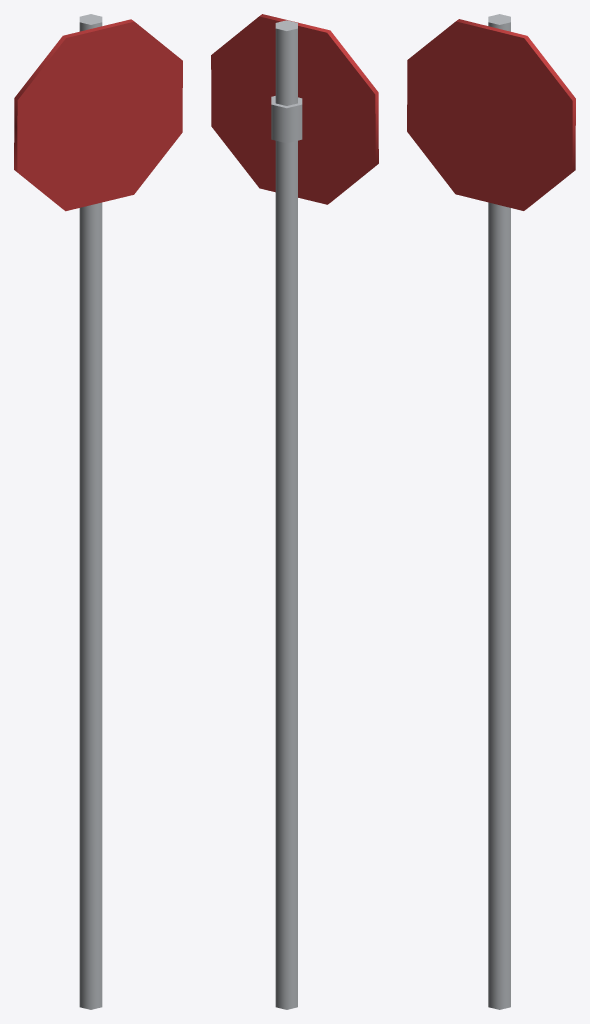
The model's file is SM_roadsign_011.fbx.
3 views of the same model, side by side, from view 1: azimuth 30°, elevation 25°; view 2: azimuth 150°, elevation 25°; view 3: azimuth 330°, elevation 25° (orthographic).
Parts seen in each view (by area): view 1: Cylinder055; view 2: Cylinder055; view 3: Cylinder055.
Boxes of the visible parts, x1,y1,x2,y2 form: Cylinder055: [14, 14, 182, 1009]; Cylinder055: [211, 14, 378, 1009]; Cylinder055: [407, 14, 575, 1009].
Bounding box in the file's own units: 21.64 × 123 × 3.93.
